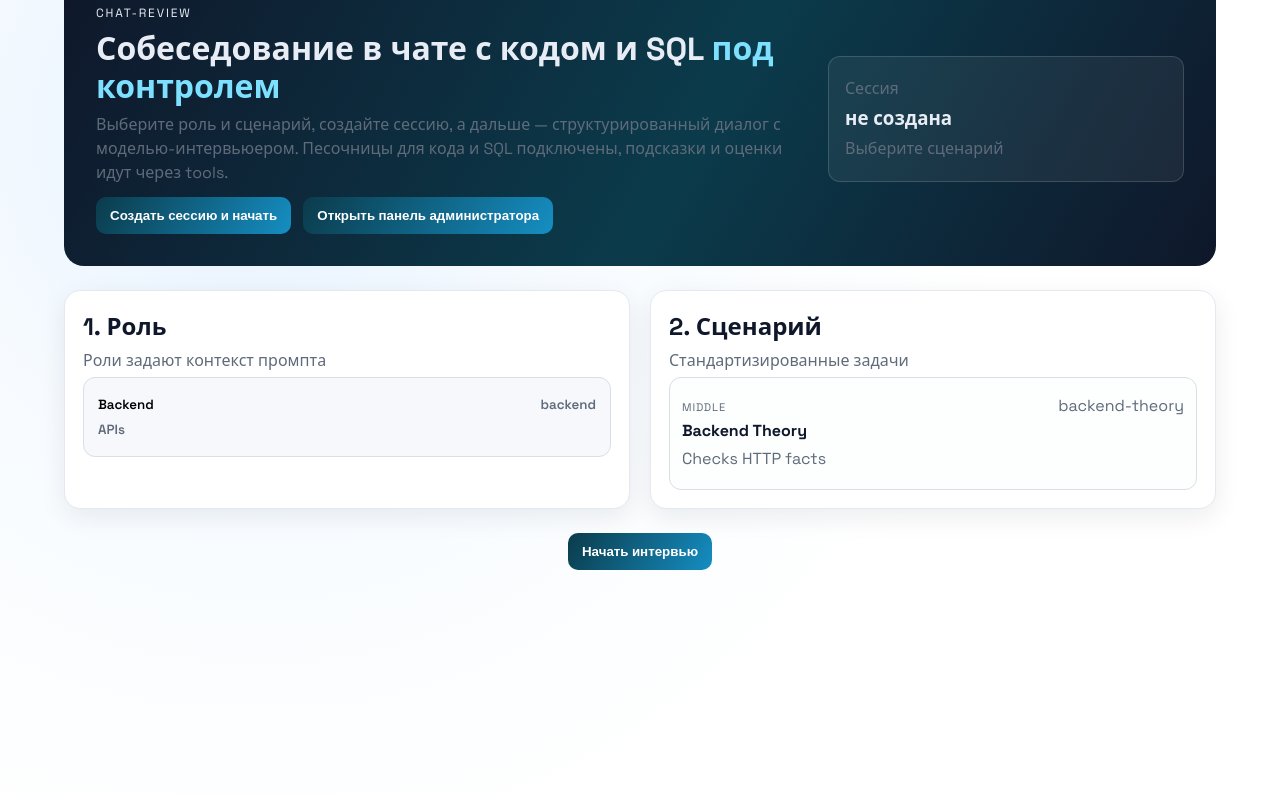
Admin materials UI › attaches a material to an existing scenario
The width and height of the screenshot is (1280, 794).
Click the button with test id "admin-toggle" at x=428, y=215, box [303,197,553,234]
(page scrolled)
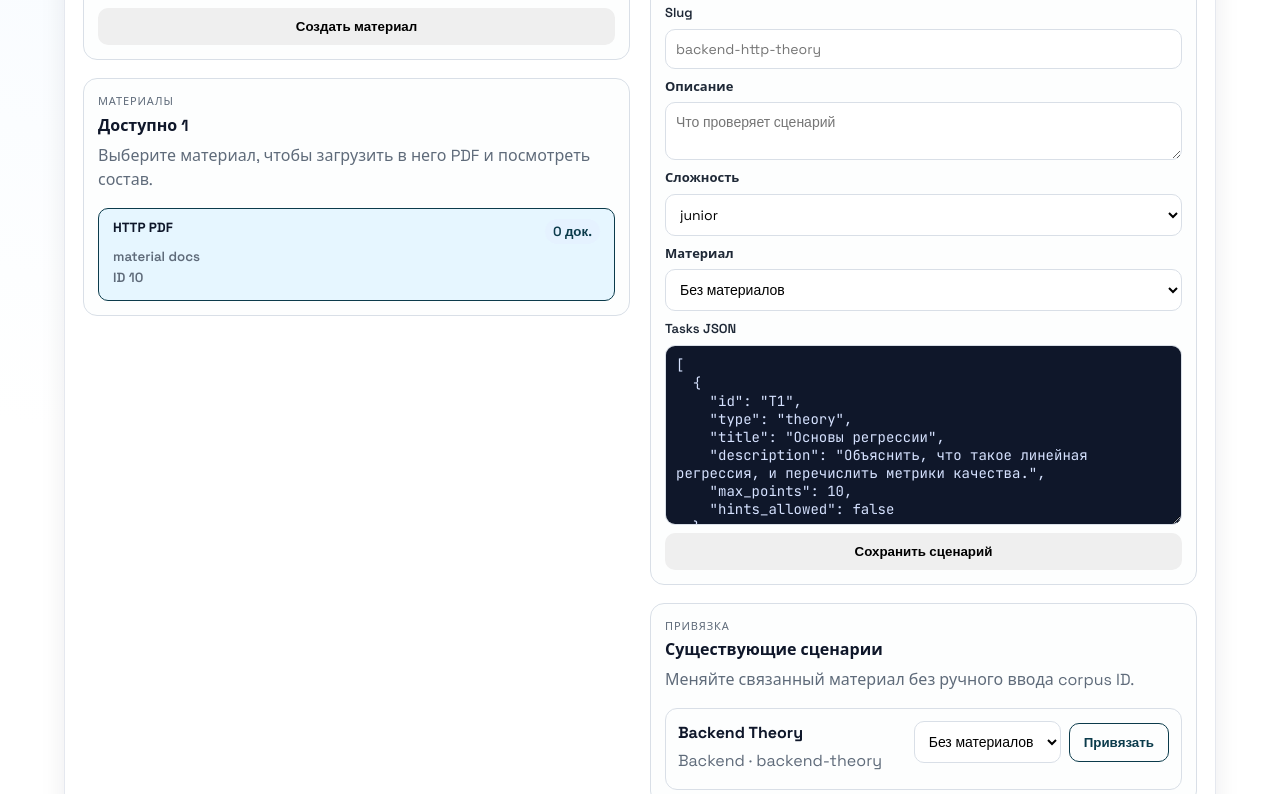
Select "HTTP PDF" in the dropdown with test id "scenario-attachment-select-11" at x=987, y=742, box [914,721,1061,763]
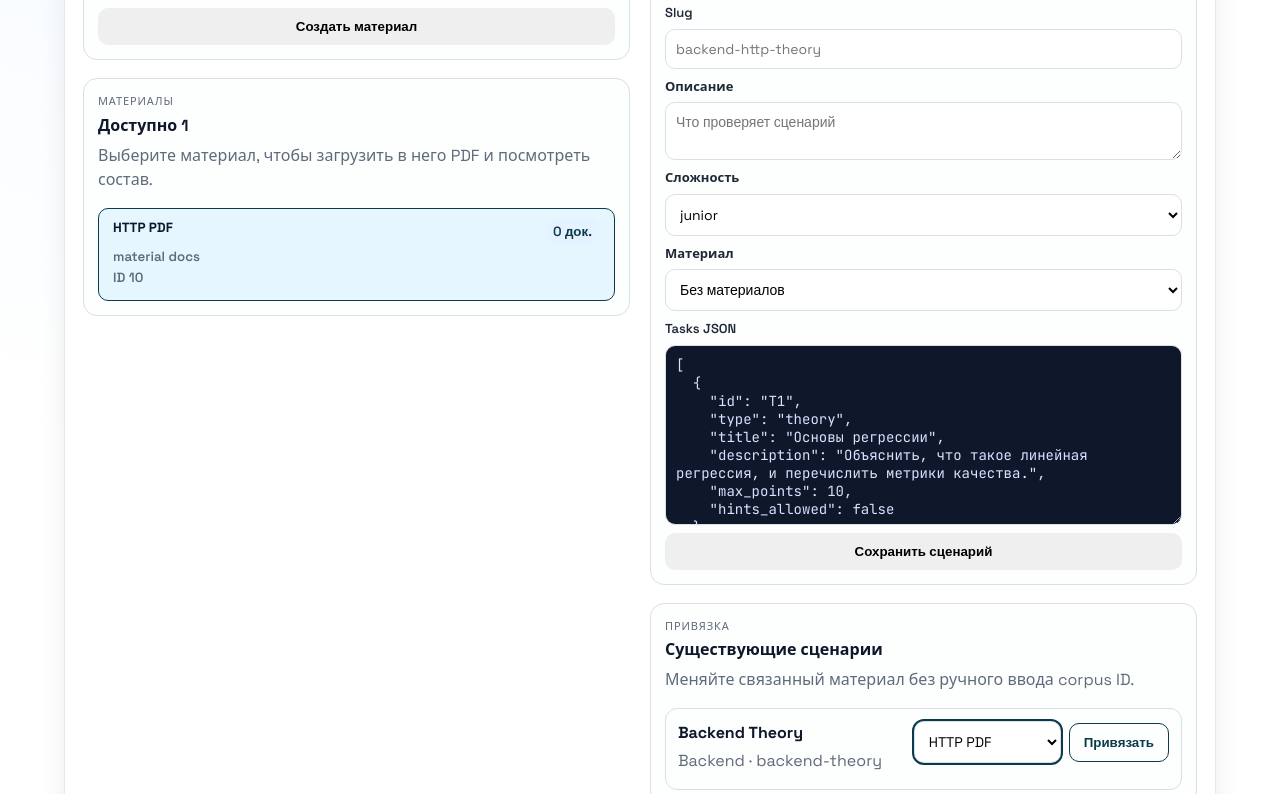
Click the button with test id "attach-material-button-11" at x=1119, y=742, box [1069,723,1169,762]
(page scrolled)
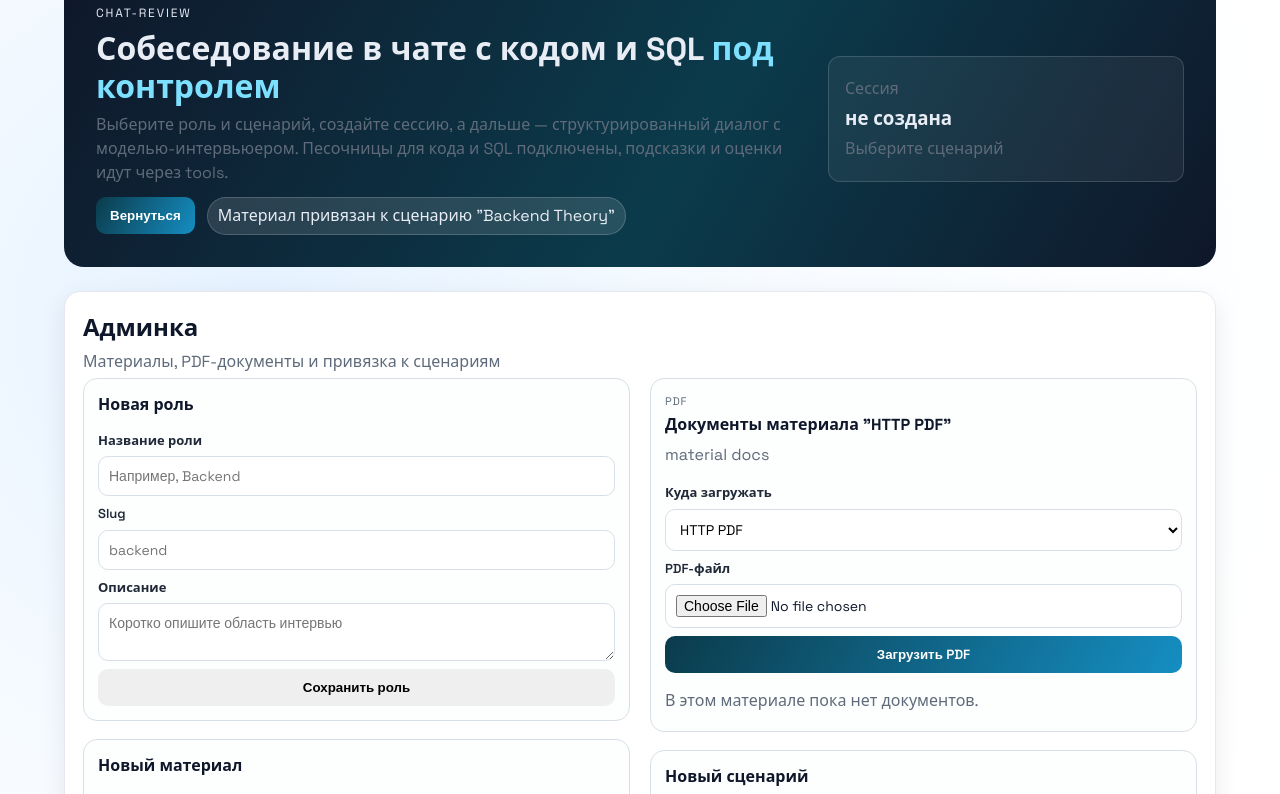
Check: the text "Материал привязан к сценарию \"Backend Theory\"" is shown, box [207,197,626,235]
